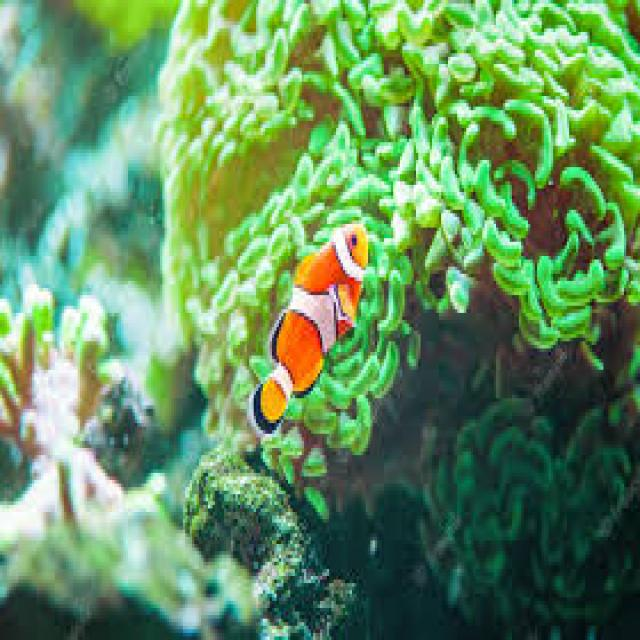Amphiprion-percula: (236, 206, 380, 466)
